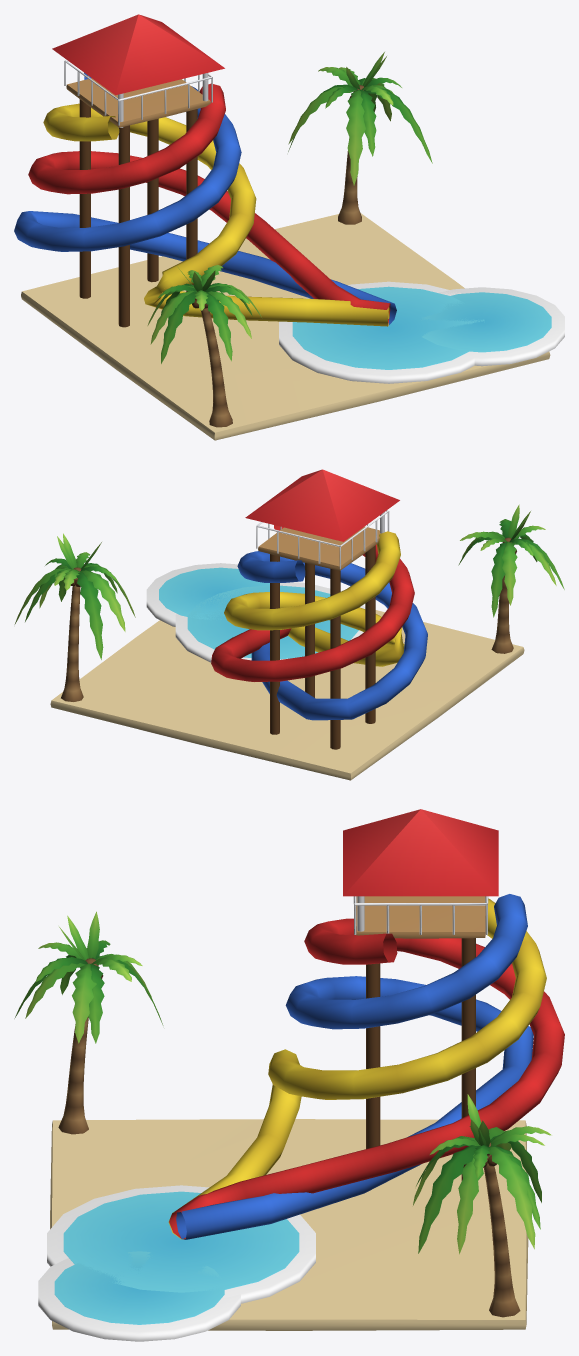
The model's file is Aquapark.obj.
3 views of the same model, one above another, from view 1: azimuth 30°, elevation 25°; view 2: azimuth 150°, elevation 25°; view 3: azimuth 270°, elevation 25° (orthographic). The views are drawn at different scales.
Visible parts, largest first — view 1: Aquapark; view 2: Aquapark; view 3: Aquapark.
Boxes of the visible parts, bbox=[...] form: Aquapark: bbox=[14, 14, 564, 440]; Aquapark: bbox=[14, 469, 564, 780]; Aquapark: bbox=[14, 809, 564, 1341].
Size of the model in its own units: 5.03 by 3.39 by 4.6.
1 material, 1 textured.
